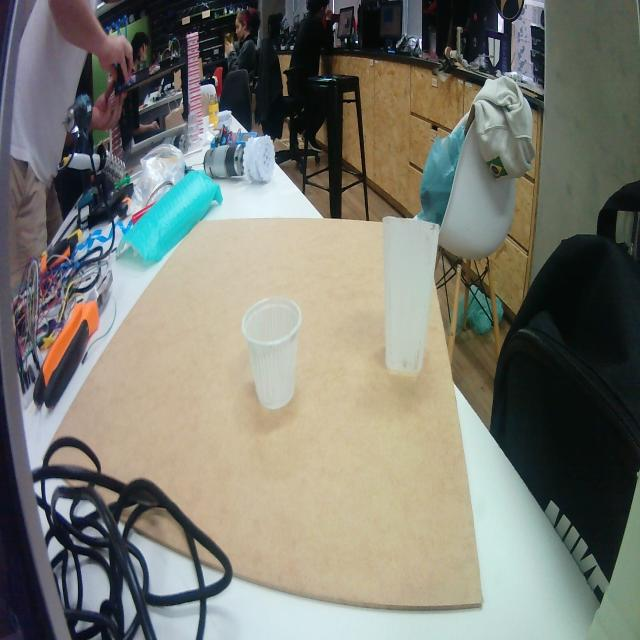erva_daninha: (381, 215, 440, 379)
planta: (242, 294, 302, 410)
